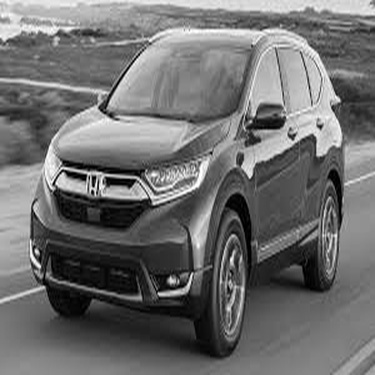car: (18, 23, 347, 363)
